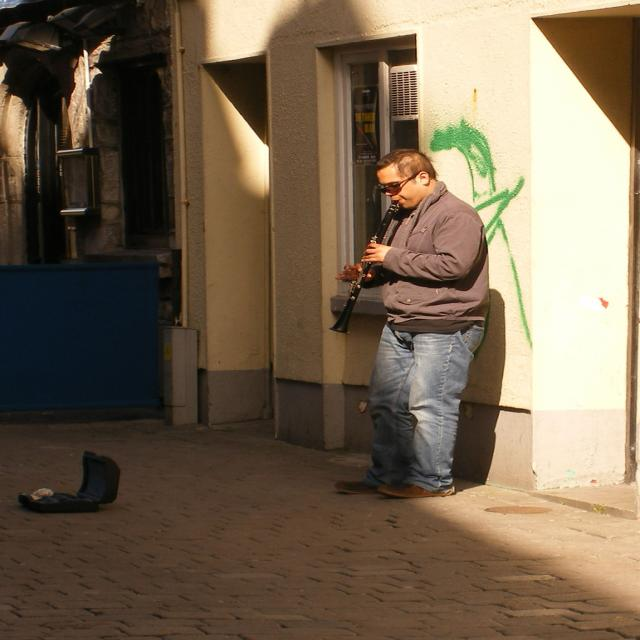clarinet: (327, 201, 400, 335)
